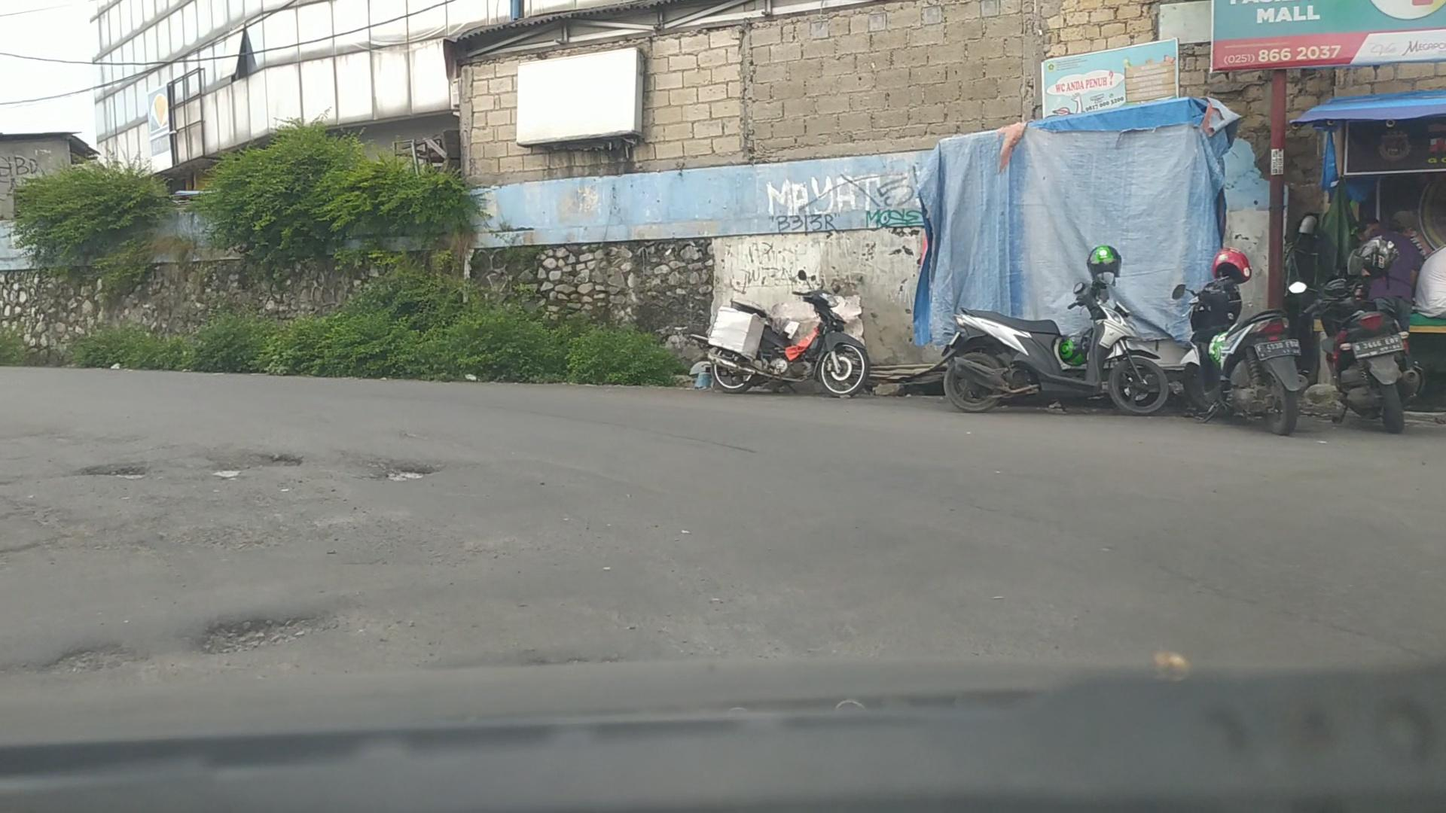pothole: (203, 612, 319, 658), (35, 646, 131, 672), (85, 464, 154, 481), (380, 462, 434, 483), (252, 453, 303, 467)
